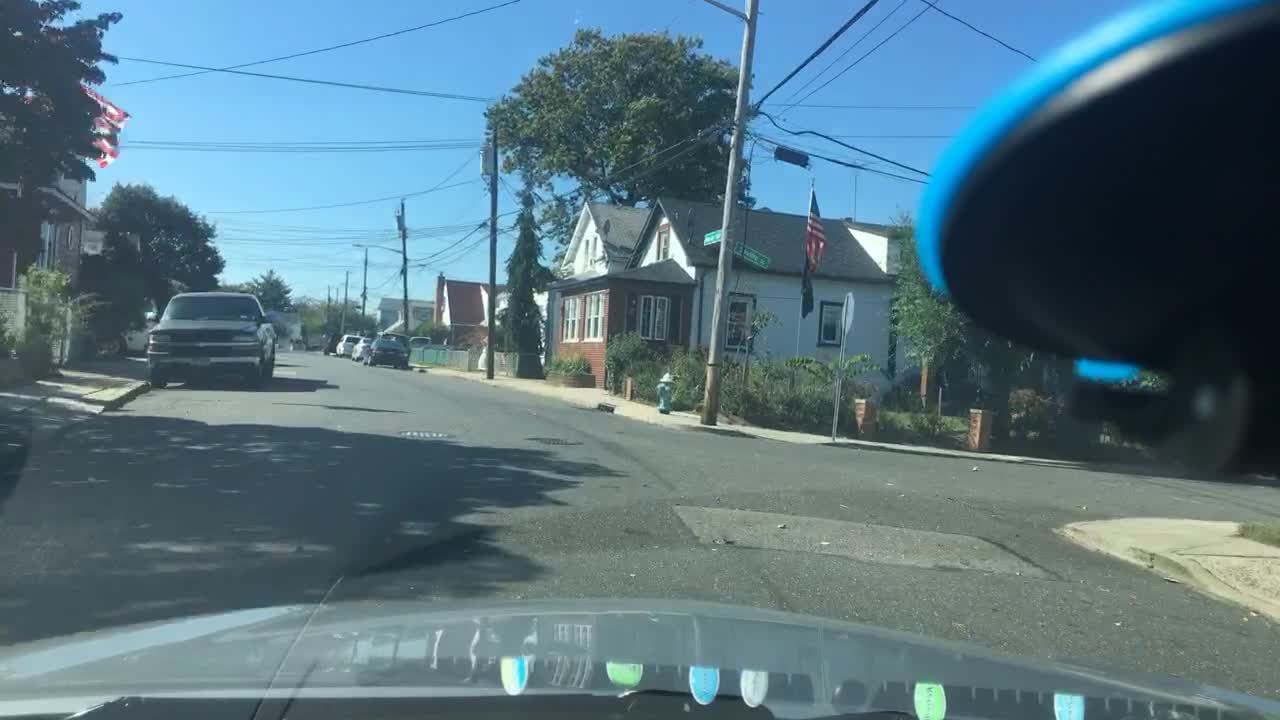car: (147, 290, 275, 390), (359, 339, 408, 369), (373, 331, 411, 360), (348, 338, 373, 364), (336, 334, 359, 359), (322, 332, 340, 355), (282, 336, 307, 352), (408, 332, 432, 348), (305, 339, 322, 352)
traffic sign: (733, 242, 772, 269), (840, 292, 854, 338), (698, 229, 723, 247)
